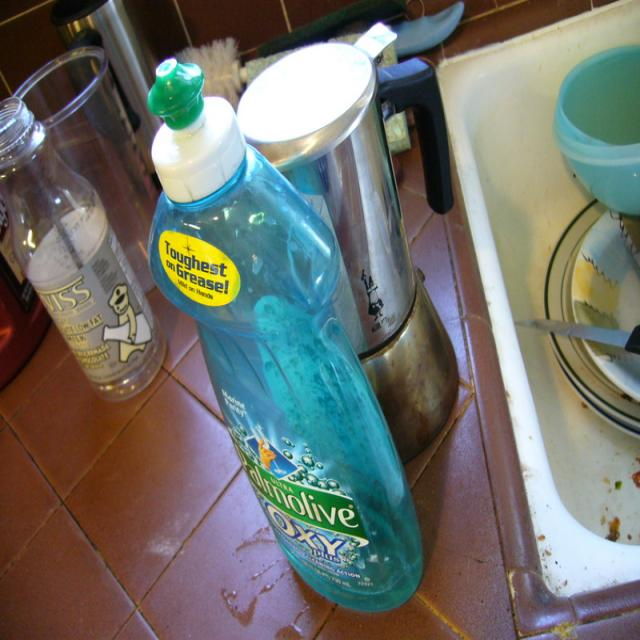container -bottle - jar: (150, 60, 422, 610), (0, 99, 165, 399)
